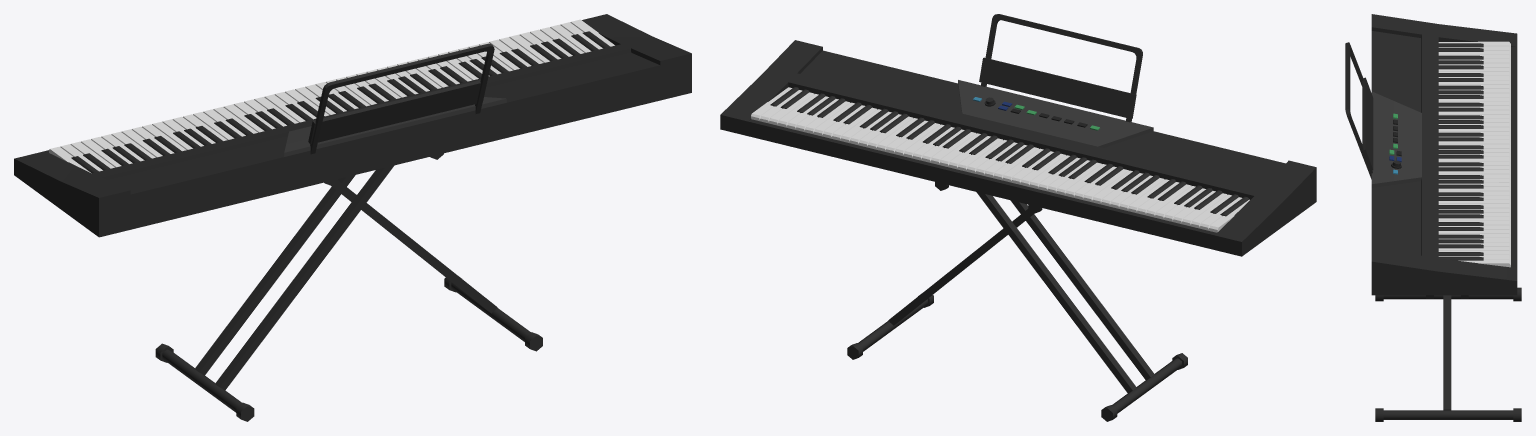
Rendered from Synthesizer_01.fbx.
3 views of the same model, side by side, from view 1: azimuth 30°, elevation 25°; view 2: azimuth 150°, elevation 25°; view 3: azimuth 270°, elevation 25° (orthographic). The views are drawn at different scales.
Parts seen in each view (by area): view 1: Synthesizer_01, Synthesizer_Stand_01; view 2: Synthesizer_01, Synthesizer_Stand_01; view 3: Synthesizer_01, Synthesizer_Stand_01.
Boxes of the visible parts, x1,y1,x2,y2 form: Synthesizer_01: [14, 14, 691, 237]; Synthesizer_Stand_01: [155, 153, 542, 421]; Synthesizer_01: [720, 14, 1316, 256]; Synthesizer_Stand_01: [847, 182, 1187, 421]; Synthesizer_01: [1345, 14, 1517, 295]; Synthesizer_Stand_01: [1375, 287, 1521, 421].
Size of the model in its own units: 1.9 by 1.03 by 0.5719.
